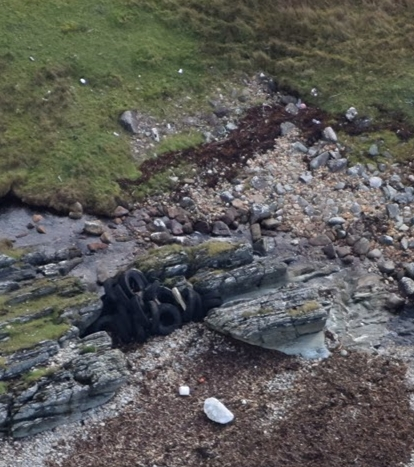white_in_green: (62, 238, 241, 382), (186, 378, 253, 435), (163, 368, 206, 409)
